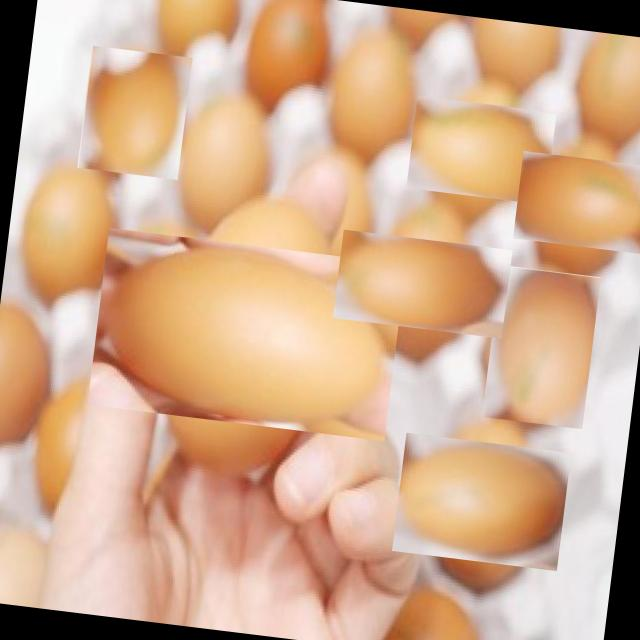eggs: (112, 201, 378, 467), (402, 422, 560, 581), (350, 211, 494, 355), (481, 264, 601, 428), (416, 84, 546, 214), (77, 44, 192, 180), (520, 141, 640, 263)
